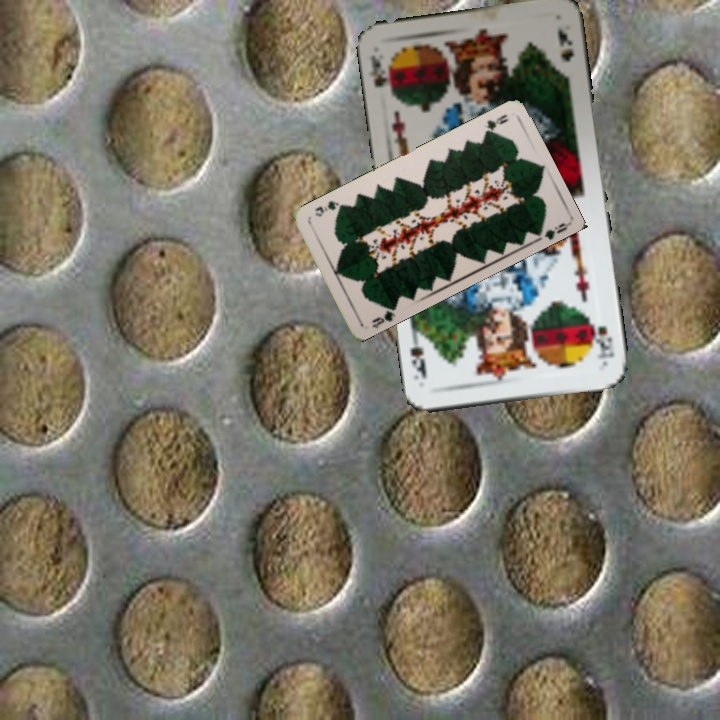G9: (480, 110, 511, 138), (368, 303, 399, 330)
SK: (366, 50, 397, 101), (588, 320, 618, 361)
